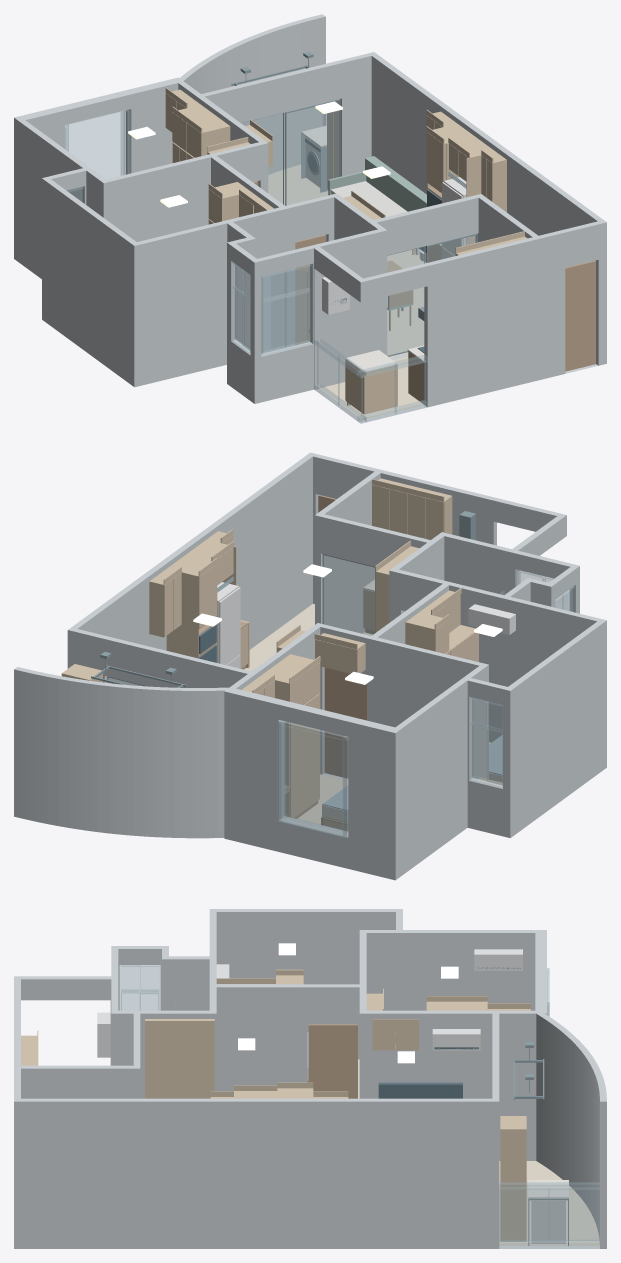
The model's file is home-layout.glb.
3 renders of one model, top to bottom at view 1: azimuth 30°, elevation 25°; view 2: azimuth 150°, elevation 25°; view 3: azimuth 270°, elevation 25°, orthographic. The views are drawn at different scales.
Visible parts, largest first — view 1: 1-Wall, balcony-door-glass-1, Layer_1-window_3, Layer_1-window_7, entry-door-leaf, kitchen-door-glass-0, Layer_1-window_9, shower-diagonal-door, 1_RoomGround-12, Layer_1-window_4, sofa-back, 1_RoomGround-0 (+12 smaller); view 2: 1-Wall, Layer_1-window_7, kitchen-door-glass-1, Layer_1-window_6, master-door-leaf, oven-side300, fridge-door-688, 1_RoomGround-12, ac-second-body, 1_RoomGround-7, robot-upper-side-0, shoe-upper-side-0 (+10 smaller); view 3: 1-Wall, Layer_1-window_8, second-door-leaf, balcony-housekeeping-back, 1_RoomGround-0, shoe-upper-door-0, shoe-upper-door-1, Layer_1-window_4, washer-body, tv-screen-body, ac-master-body, ac-living-body (+8 smaller).
Boxes of the visible parts, bbox=[...] form: 1-Wall: bbox=[14, 14, 606, 423]; balcony-door-glass-1: bbox=[287, 101, 339, 205]; Layer_1-window_3: bbox=[261, 264, 312, 356]; Layer_1-window_7: bbox=[65, 109, 130, 178]; entry-door-leaf: bbox=[565, 260, 595, 371]; kitchen-door-glass-0: bbox=[387, 247, 424, 355]; Layer_1-window_9: bbox=[314, 338, 427, 423]; shower-diagonal-door: bbox=[271, 269, 305, 348]; 1_RoomGround-12: bbox=[387, 250, 426, 357]; Layer_1-window_4: bbox=[231, 261, 250, 354]; sofa-back: bbox=[365, 156, 426, 211]; 1_RoomGround-0: bbox=[268, 164, 328, 205]; 1-Wall: bbox=[14, 452, 606, 880]; Layer_1-window_7: bbox=[277, 720, 348, 837]; kitchen-door-glass-1: bbox=[324, 555, 374, 635]; Layer_1-window_6: bbox=[469, 697, 502, 788]; master-door-leaf: bbox=[324, 667, 367, 778]; oven-side300: bbox=[166, 568, 198, 658]; fridge-door-688: bbox=[219, 587, 240, 664]; 1_RoomGround-12: bbox=[244, 604, 314, 671]; ac-second-body: bbox=[468, 604, 515, 634]; 1_RoomGround-7: bbox=[297, 774, 348, 824]; robot-upper-side-0: bbox=[149, 581, 163, 637]; shoe-upper-side-0: bbox=[376, 571, 389, 632]; 1-Wall: bbox=[14, 909, 606, 1248]; Layer_1-window_8: bbox=[499, 1182, 599, 1248]; second-door-leaf: bbox=[308, 1024, 357, 1098]; balcony-housekeeping-back: bbox=[500, 1129, 526, 1241]; 1_RoomGround-0: bbox=[499, 1161, 599, 1245]; shoe-upper-door-0: bbox=[180, 1026, 214, 1086]; shoe-upper-door-1: bbox=[146, 1026, 179, 1085]; Layer_1-window_4: bbox=[120, 965, 160, 1010]; washer-body: bbox=[531, 1200, 565, 1243]; tv-screen-body: bbox=[378, 1082, 462, 1098]; ac-master-body: bbox=[474, 949, 522, 970]; ac-living-body: bbox=[432, 1029, 480, 1050].
Bounding box in the file's own units: 7.85 × 2.8 × 10.22.
